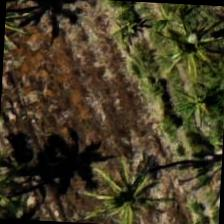Kelapa_Sawit: (76, 157, 171, 223)
